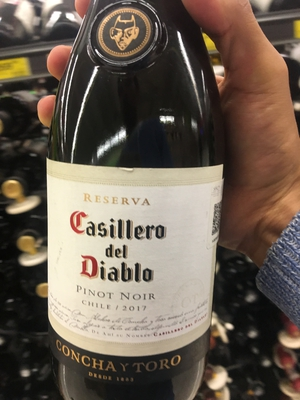casillero del diablo pinot noir: (35, 25, 234, 400)
